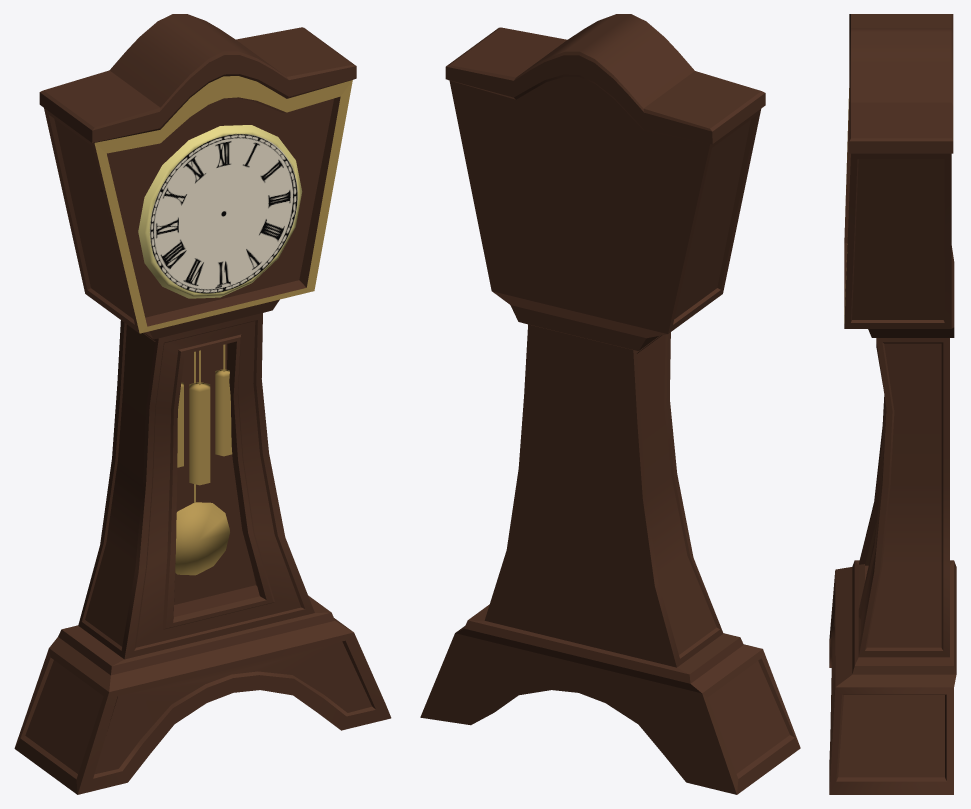
Rendered from GrandfatherClockfix.fbx.
3 views of the same model, side by side, from view 1: azimuth 30°, elevation 25°; view 2: azimuth 150°, elevation 25°; view 3: azimuth 270°, elevation 25° (orthographic). The views are drawn at different scales.
Visible parts, largest first — view 1: GrandfatherClock1; view 2: GrandfatherClock1; view 3: GrandfatherClock1.
Part boxes in pixels (left/top/right/bottom): GrandfatherClock1: left=14, top=14, right=391, bottom=794; GrandfatherClock1: left=420, top=14, right=800, bottom=794; GrandfatherClock1: left=829, top=14, right=956, bottom=794.
Size of the model in its own units: 199 by 423 by 70.85.
